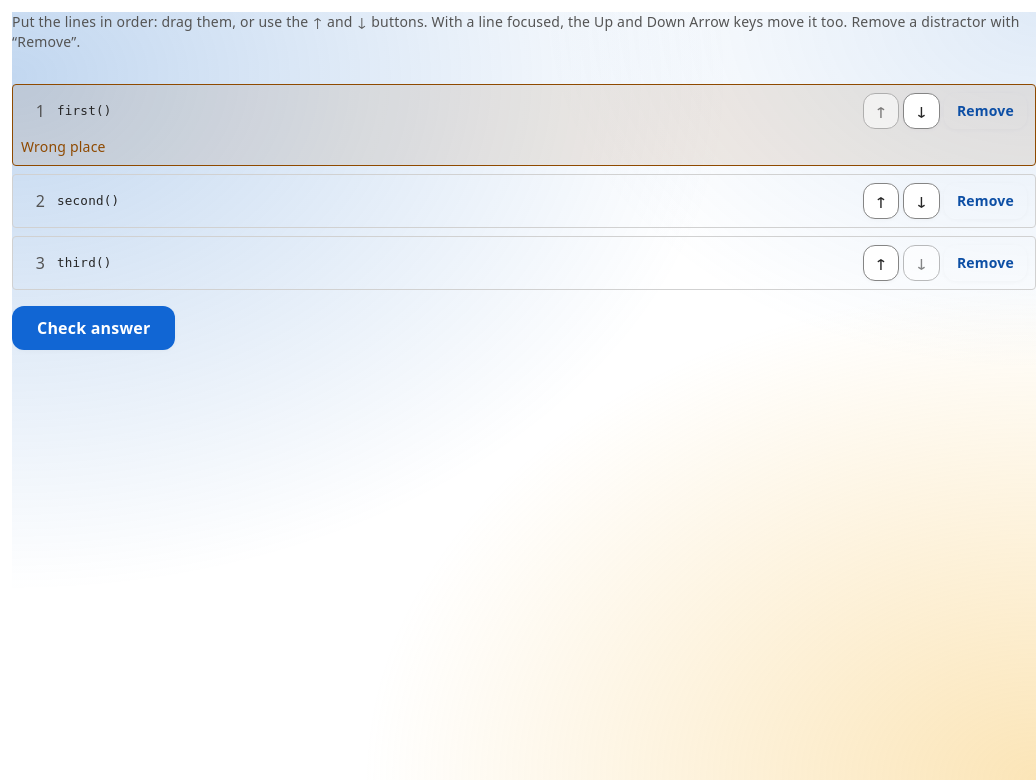
Test case: code activities › clears Parsons per-line highlights as soon as the answer is changed
Check: the text "Wrong place" is shown, box [21, 137, 106, 156]
// Moving a line clears the per-line highlight
Click the button "third()" at (84, 262), box [53, 245, 855, 281]
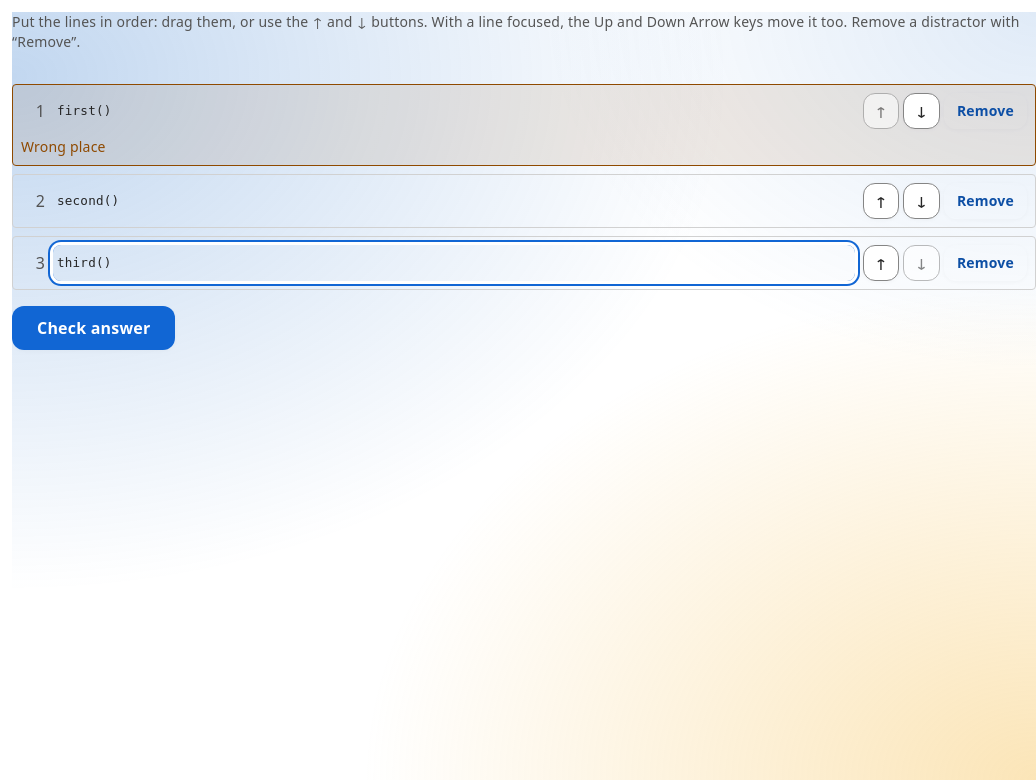
Press Arrowup
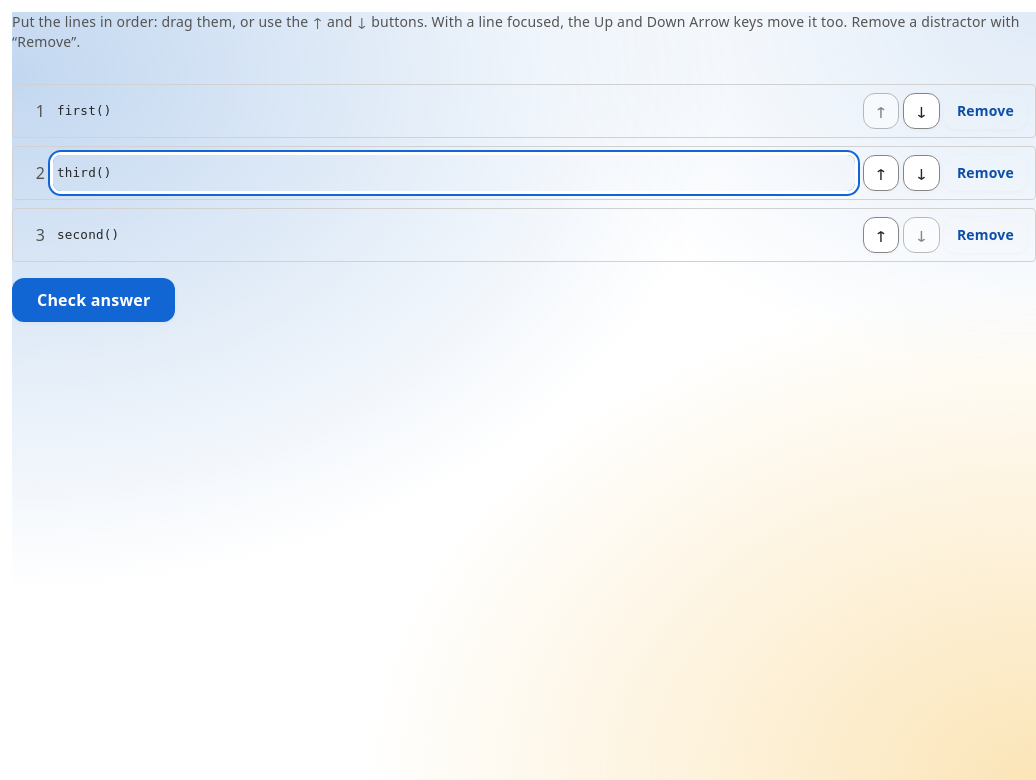
Check: the text "Wrong place" is gone
